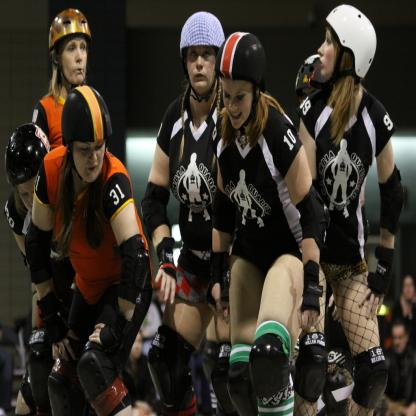Helmet: (5, 118, 61, 192), (327, 5, 378, 83), (62, 83, 117, 151), (216, 27, 272, 90), (174, 14, 223, 73), (47, 6, 99, 50)
